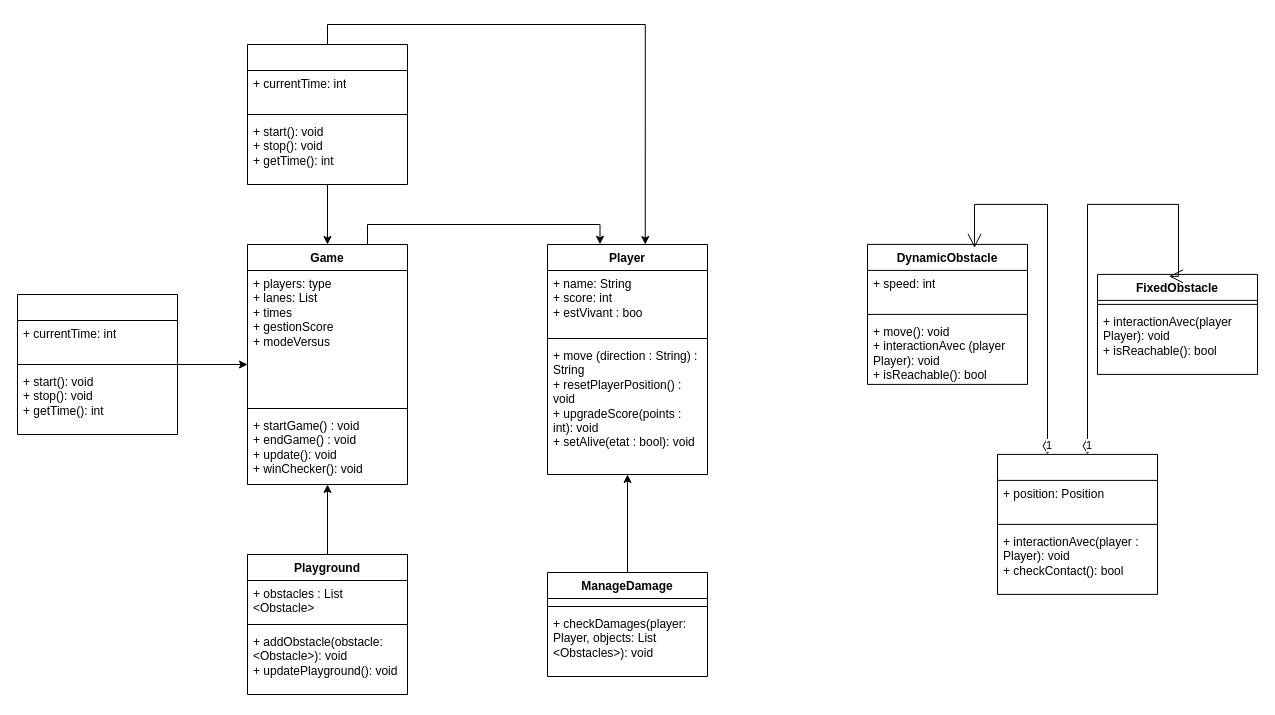
Some shapes in this 1275 by 715 pixel diagram are drawn without their labels. The box of each missing label's shape, as (x1, y1, x2, y2) in pixels:
<Abstract> Obstacle: (996, 453, 1158, 594)
ScoreManager: (246, 44, 408, 184)
Timer: (16, 294, 178, 434)
